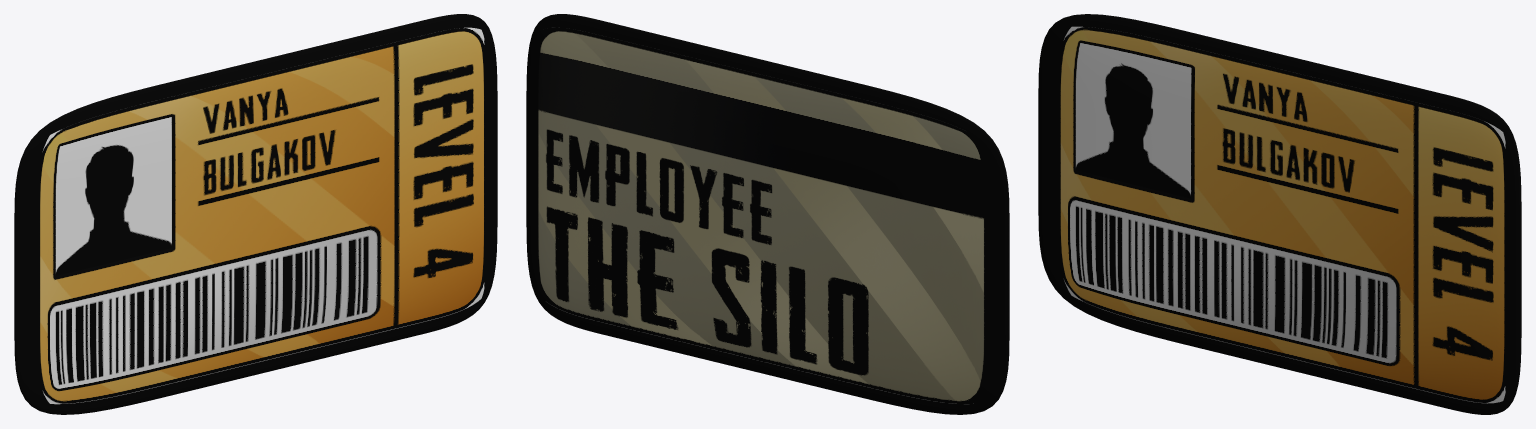
Rendered from card4.fbx.
3 renders of one model, left to right at view 1: azimuth 30°, elevation 25°; view 2: azimuth 150°, elevation 25°; view 3: azimuth 330°, elevation 25°, orthographic.
Parts seen in each view (by area): view 1: Card_4; view 2: Card_4; view 3: Card_4.
Part boxes in pixels (bbox=[...]): Card_4: bbox=[14, 14, 497, 414]; Card_4: bbox=[526, 14, 1009, 414]; Card_4: bbox=[1038, 14, 1521, 414].
Size of the model in its own units: 251 by 156 by 4.35.
